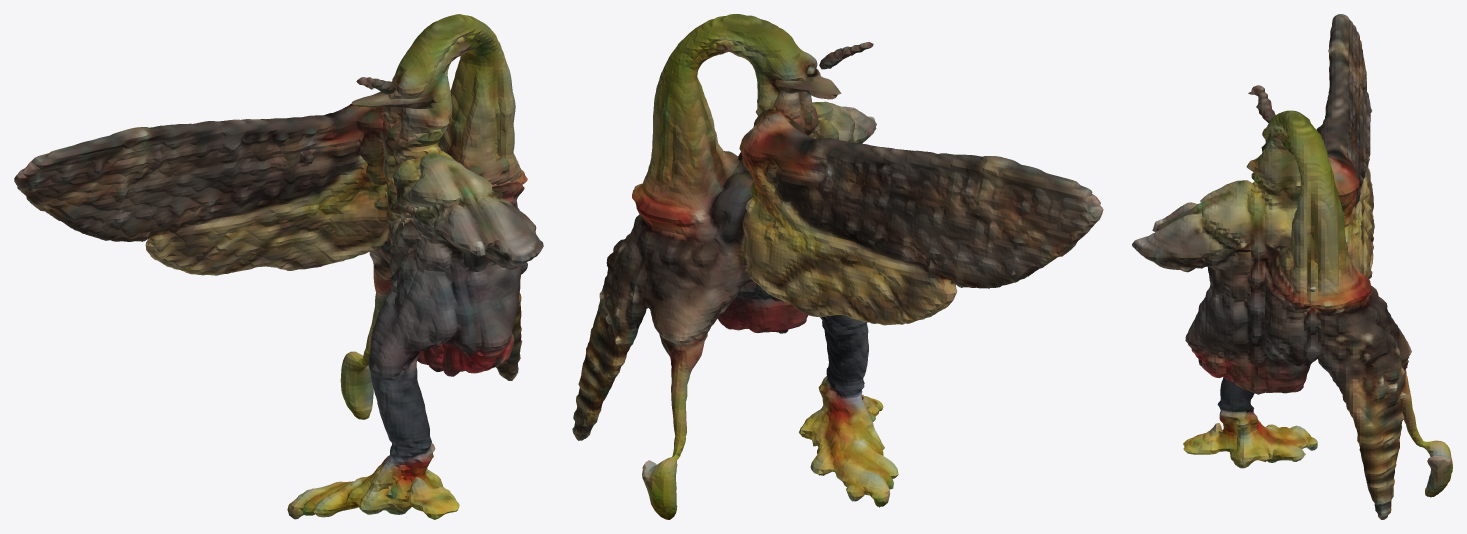
Rendered from mothmouth.glb.
3 views of the same model, side by side, from view 1: azimuth 30°, elevation 25°; view 2: azimuth 150°, elevation 25°; view 3: azimuth 270°, elevation 25° (orthographic). The views are drawn at different scales.
Visible parts, largest first — view 1: tmpesktoh67; view 2: tmpesktoh67; view 3: tmpesktoh67.
Boxes of the visible parts, bbox=[...] form: tmpesktoh67: bbox=[14, 14, 543, 519]; tmpesktoh67: bbox=[572, 14, 1103, 519]; tmpesktoh67: bbox=[1132, 14, 1452, 519].
Bounding box in the file's own units: 0.9814 × 0.8348 × 0.6227.
